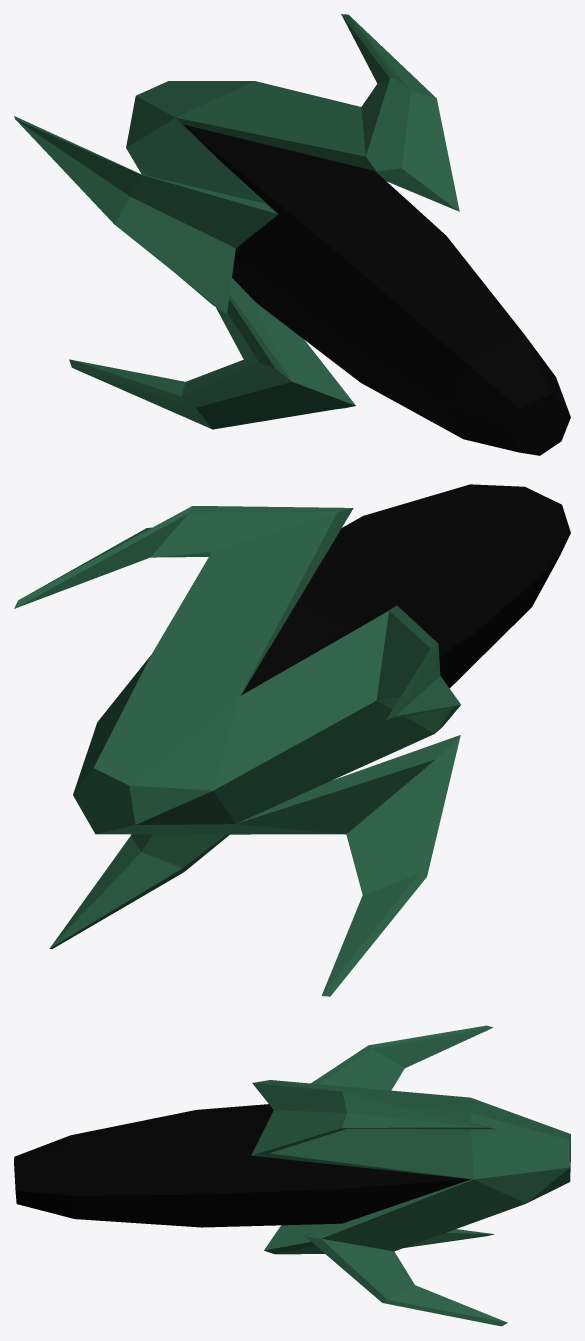
The model's file is Corn_Harvest_02.fbx.
3 views of the same model, one above another, from view 1: azimuth 30°, elevation 25°; view 2: azimuth 150°, elevation 25°; view 3: azimuth 270°, elevation 25° (orthographic). The views are drawn at different scales.
Visible parts, largest first — view 1: Corn_Harvest_02; view 2: Corn_Harvest_02; view 3: Corn_Harvest_02.
Boxes of the visible parts, x1,y1,x2,y2 form: Corn_Harvest_02: (14, 14, 570, 455); Corn_Harvest_02: (14, 484, 570, 996); Corn_Harvest_02: (14, 1025, 570, 1326).
Bounding box in the file's own units: 13.84 × 12.54 × 27.55.
